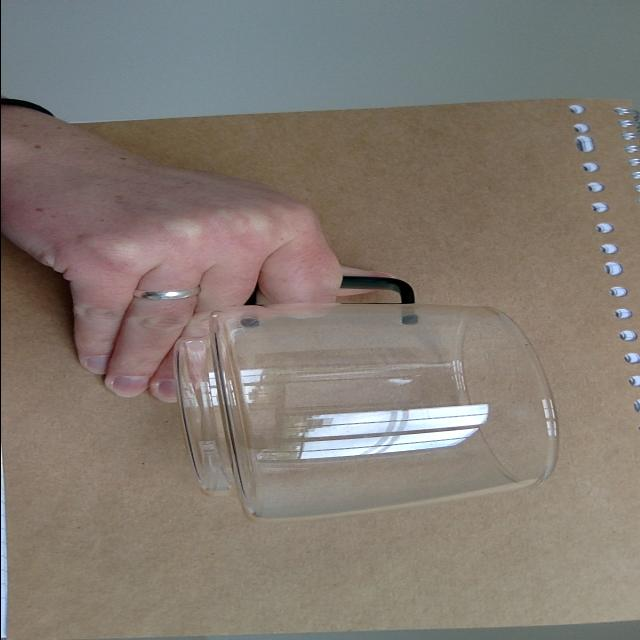cup of coffee: (156, 274, 567, 532)
